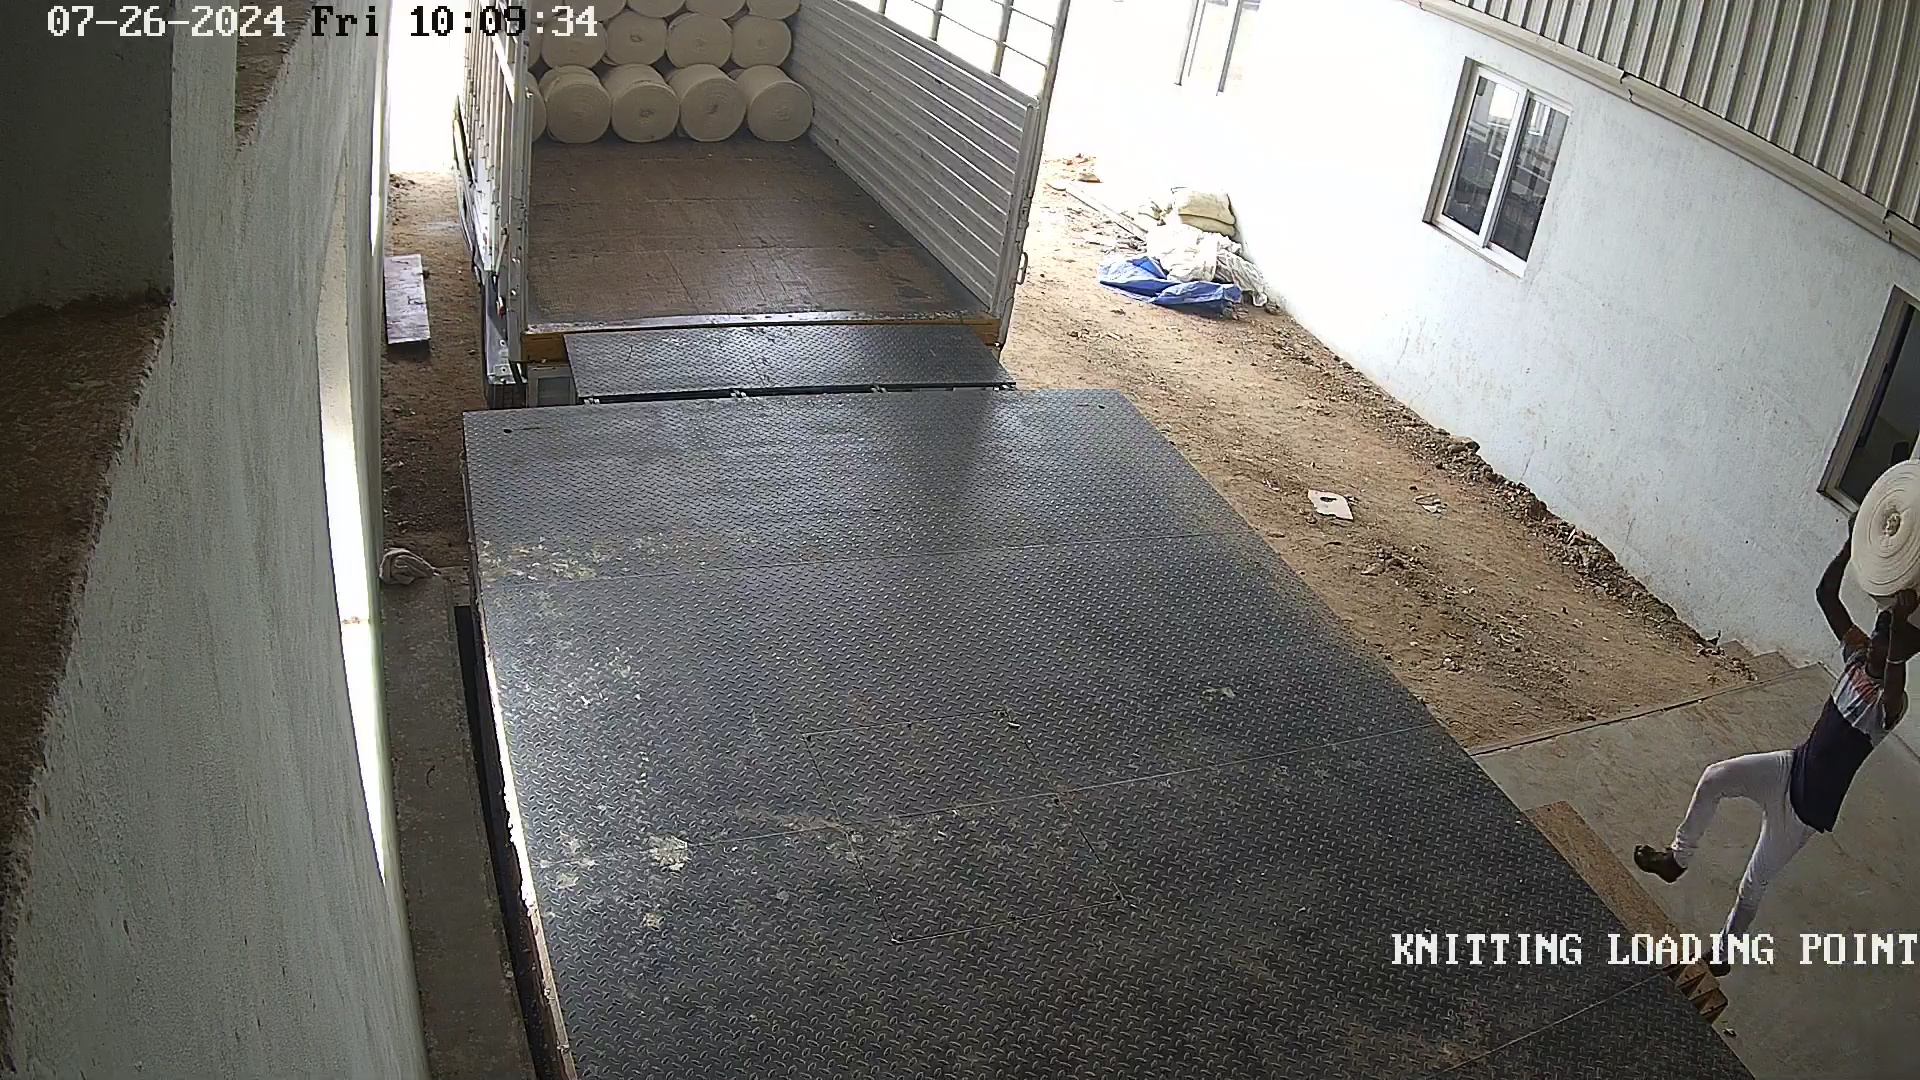bag: (1836, 455, 1920, 615)
